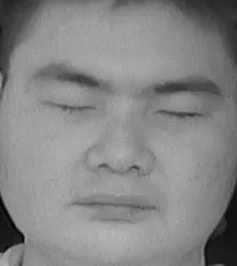blink: (44, 87, 101, 121), (161, 98, 208, 131)
mouth: (74, 183, 158, 227)
